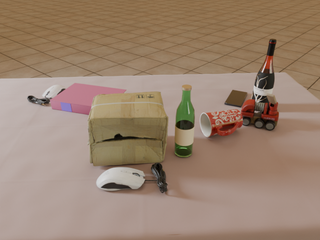book: (50, 83, 126, 115)
bottle: (252, 39, 276, 105), (175, 85, 195, 157)
box: (88, 92, 168, 166)
cup: (200, 109, 243, 137)
mouse: (96, 167, 147, 191), (42, 85, 67, 99)
phone: (225, 90, 247, 107)
toy_car: (241, 93, 279, 130)
